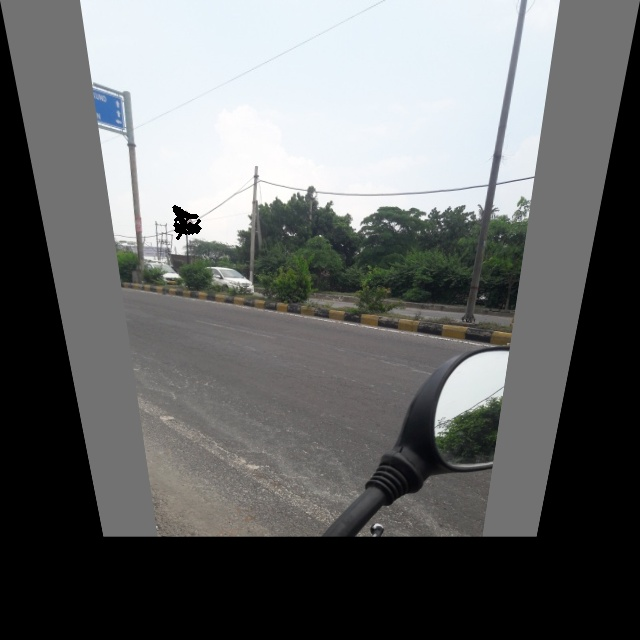Gap_in_Median: (174, 206, 199, 234)
